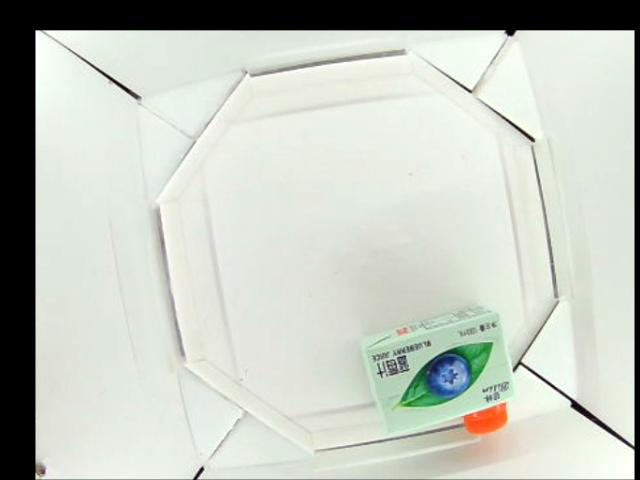Bottle: (358, 304, 516, 437)
